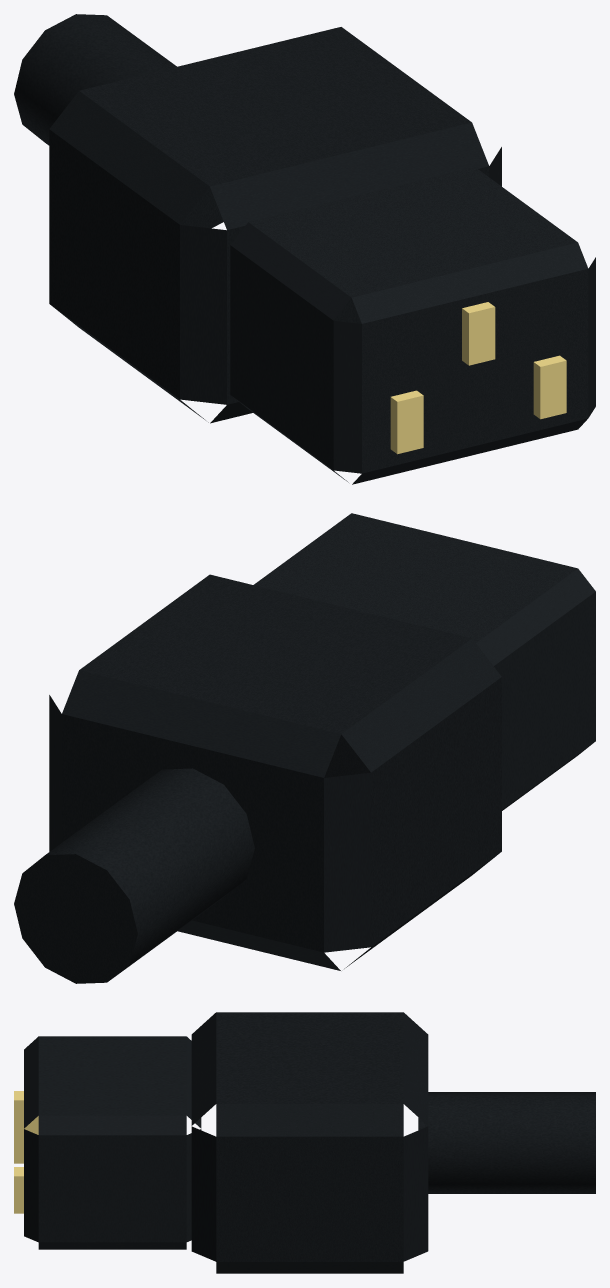
Rendered from connector_power_iec.glb.
3 views of the same model, one above another, from view 1: azimuth 30°, elevation 25°; view 2: azimuth 150°, elevation 25°; view 3: azimuth 270°, elevation 25° (orthographic). The views are drawn at different scales.
Parts seen in each view (by area): view 1: LOD0; view 2: LOD0; view 3: LOD0.
Part boxes in pixels (x1=…): LOD0: x1=14, y1=14, x2=595, y2=484; LOD0: x1=14, y1=513, x2=595, y2=983; LOD0: x1=14, y1=1012, x2=595, y2=1273.
Size of what is drawn, in the model's own units: 0.027 by 0.019 by 0.059.
Materials: 3 (2 with a texture image).
